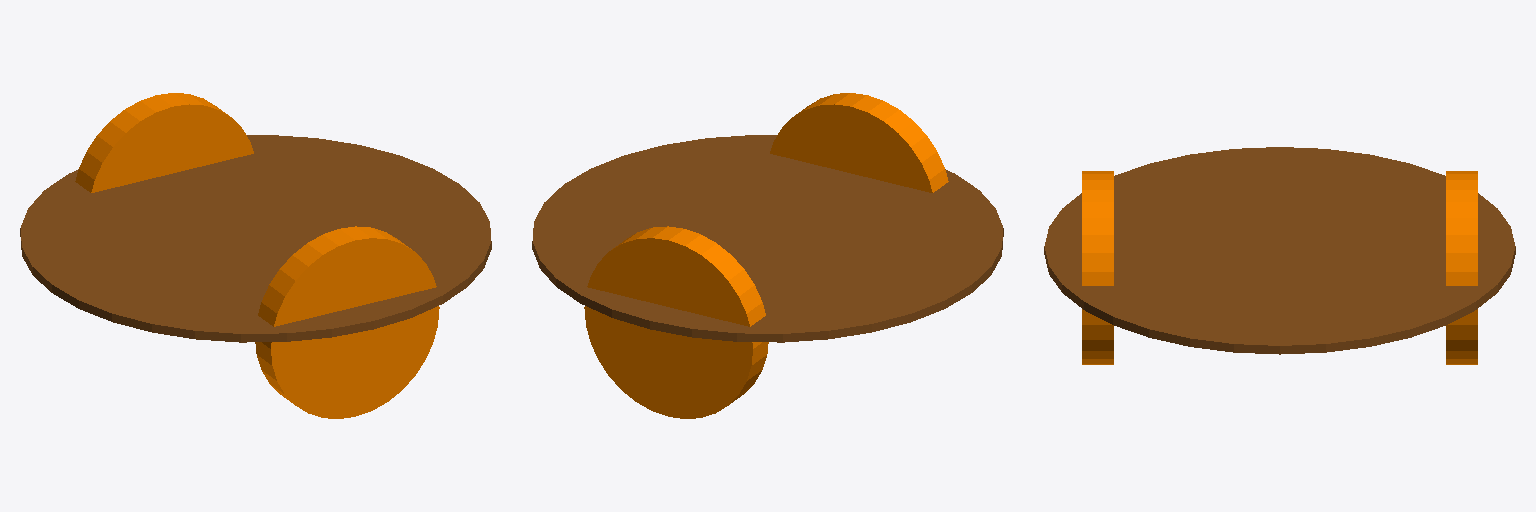
robot.urdf — Frobo:
<?xml version="1.0" ?>
<!-- =================================================================================== -->
<!-- |    This document was autogenerated by xacro from frobo.urdf.xacro               | -->
<!-- |    EDITING THIS FILE BY HAND IS NOT RECOMMENDED                                 | -->
<!-- =================================================================================== -->
<robot name="Frobo">
  <!-- The following included files set up definitions of parts of the robot body -->
  <material name="Black">
    <color rgba="0.2 0.2 0.2 1.0"/>
  </material>
  <material name="Orange">
    <color rgba="1.0  0.55 0.0 1.0"/>
  </material>
  <material name="Brown">
    <color rgba="0.55  0.35 0.15 1.0"/>
  </material>
  <material name="Grey">
    <color rgba="0.75 0.75 0.75 1.0"/>
  </material>
  <material name="Red">
    <color rgba="0.8 0.0 0.0 1.0"/>
  </material>
  <material name="White">
    <color rgba="1.0 1.0 1.0 1.0"/>
  </material>
  <material name="Blue">
    <color rgba="0.0 0.0 0.8 1.0"/>
  </material>
  <!-- Now we can start using the macros included above to define the actual Frobo -->
  <link name="base_link">
    <visual>
      <origin rpy="0 0 0" xyz="0 0 0.074"/>
      <geometry>
        <!-- <mesh filename="package://frobo_defs/meshes/base.stl"  /> -->
        <cylinder length="0.006" radius="0.15"/>
      </geometry>
      <material name="Brown"/>
    </visual>
    <collision>
      <origin rpy="0 0 0" xyz="0 0 0.06191"/>
      <geometry>
        <cylinder length="0.12382" radius="0.2"/>
      </geometry>
    </collision>
  </link>
  <joint name="base_l_wheel_joint" type="continuous">
    <axis xyz="0 0 1"/>
    <limit effort="100" velocity="100"/>
    <safety_controller k_velocity="10"/>
    <origin rpy="1.57 0 0" xyz="0 0.116 0.06191"/>
    <parent link="base_link"/>
    <child link="base_l_wheel_link"/>
  </joint>
  <link name="base_l_wheel_link">
    <visual>
      <origin rpy="0 0 0" xyz="0 0 0"/>
      <geometry>
        <cylinder length="0.02032" radius="0.06191"/>
      </geometry>
      <material name="Orange"/>
    </visual>
  </link>
  <joint name="base_r_wheel_joint" type="continuous">
    <axis xyz="0 0 1"/>
    <limit effort="100" velocity="100"/>
    <safety_controller k_velocity="10"/>
    <origin rpy="-1.57 0 0" xyz="0 -0.116 0.06191"/>
    <parent link="base_link"/>
    <child link="base_r_wheel_link"/>
  </joint>
  <link name="base_r_wheel_link">
    <visual>
      <origin rpy="0 0 0" xyz="0 0 0"/>
      <geometry>
        <cylinder length="0.02032" radius="0.06191"/>
      </geometry>
      <material name="Orange"/>
    </visual>
  </link>
  <joint name="base_fr_sonar_joint" type="fixed">
    <origin rpy="1.57 0 -0.6" xyz="0.115 -0.055 0.054"/>
    <parent link="base_link"/>
    <child link="base_fr_sonar_link"/>
  </joint>
  <link name="base_fr_sonar_link">
    <visual>
      <origin rpy="0 0 0" xyz="0 0 0"/>
      <geometry>
        <mesh filename="package://frobo_defs/meshes/sonar.stl"/>
      </geometry>
      <material name="Blue"/>
    </visual>
  </link>
  <joint name="base_fc_sonar_joint" type="fixed">
    <origin rpy="1.57 0 0" xyz="0.125 0 0.054"/>
    <parent link="base_link"/>
    <child link="base_fc_sonar_link"/>
  </joint>
  <link name="base_fc_sonar_link">
    <visual>
      <origin rpy="0 0 0" xyz="0 0 0"/>
      <geometry>
        <mesh filename="package://frobo_defs/meshes/sonar.stl"/>
      </geometry>
      <material name="Blue"/>
    </visual>
  </link>
  <joint name="base_fl_sonar_joint" type="fixed">
    <origin rpy="1.57 0 0.6" xyz="0.115 0.055 0.054"/>
    <parent link="base_link"/>
    <child link="base_fl_sonar_link"/>
  </joint>
  <link name="base_fl_sonar_link">
    <visual>
      <origin rpy="0 0 0" xyz="0 0 0"/>
      <geometry>
        <mesh filename="package://frobo_defs/meshes/sonar.stl"/>
      </geometry>
      <material name="Blue"/>
    </visual>
  </link>
</robot>

--- Render facts (derived) ---
3 views of the same robot in one strip: view 1: azimuth 30°, elevation 25°; view 2: azimuth 150°, elevation 25°; view 3: azimuth 270°, elevation 25° (orthographic).
Robot: Frobo — 6 links, 5 joints (2 continuous, 3 fixed); root link base_link; default pose: all joints at 0.
Visible links, largest first — view 1: base_link, base_r_wheel_link, base_l_wheel_link; view 2: base_link, base_l_wheel_link, base_r_wheel_link; view 3: base_link, base_l_wheel_link, base_r_wheel_link.
Link boxes in pixels (box(x1,y1,x2,y2)): base_link: box(20, 135, 491, 342); base_r_wheel_link: box(255, 226, 439, 418); base_l_wheel_link: box(75, 93, 253, 192); base_link: box(532, 135, 1003, 342); base_l_wheel_link: box(584, 226, 768, 418); base_r_wheel_link: box(770, 93, 948, 192); base_link: box(1044, 147, 1515, 354); base_l_wheel_link: box(1446, 171, 1477, 364); base_r_wheel_link: box(1082, 171, 1113, 364).
Bounding box of the posed robot: 0.3 × 0.3 × 0.1238 m (x, y, z).
0 mesh visuals loaded from 1 distinct referenced files (none loaded); not drawn: 3 (reference not matched to a file when rendering).